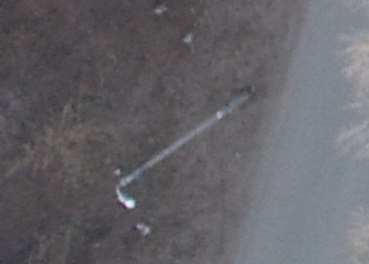opora: (113, 87, 255, 211)
